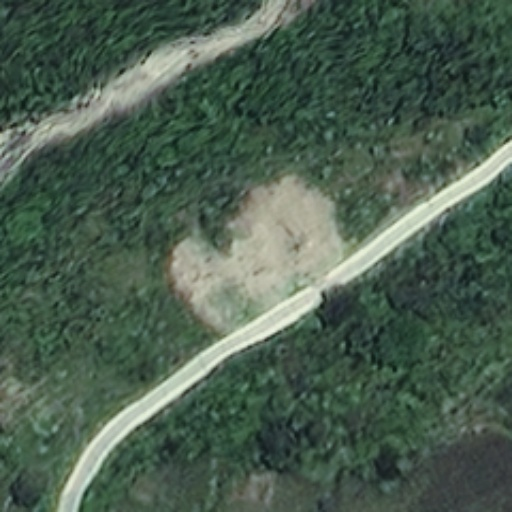landslide: (171, 171, 346, 333)
